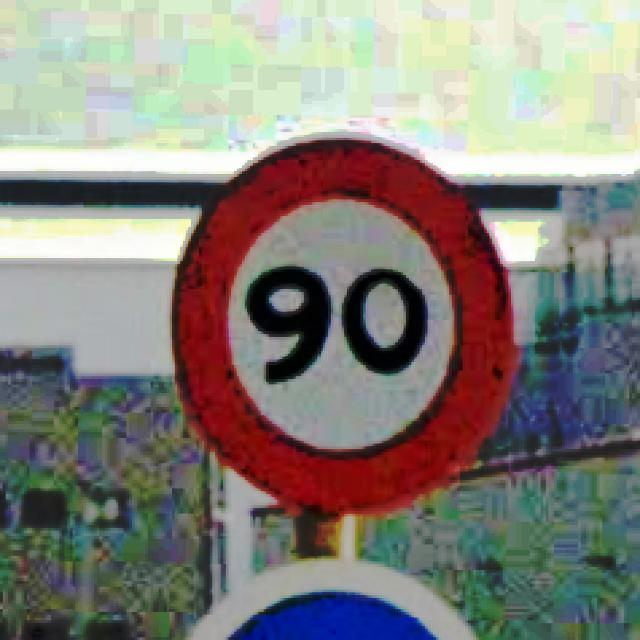max90: (164, 129, 516, 517)
